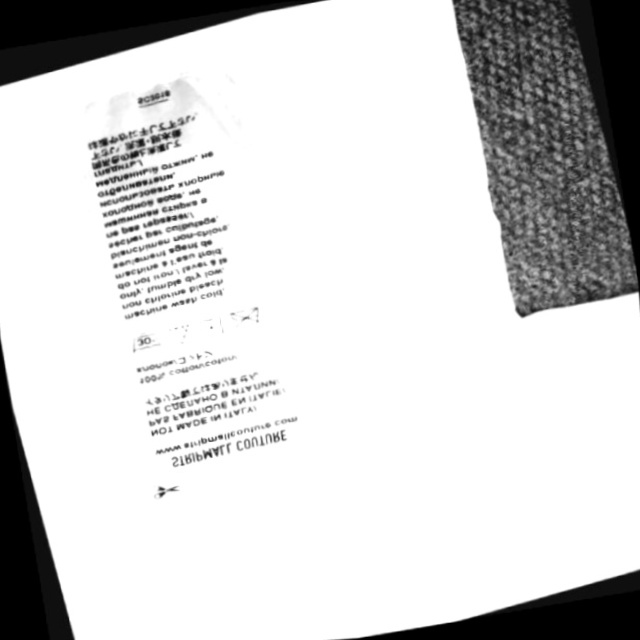30C: (125, 329, 164, 354)
DN_iron: (229, 303, 268, 334)
non_chlorine_bleach: (166, 321, 194, 347)
tumble_dry_low: (192, 314, 227, 340)
